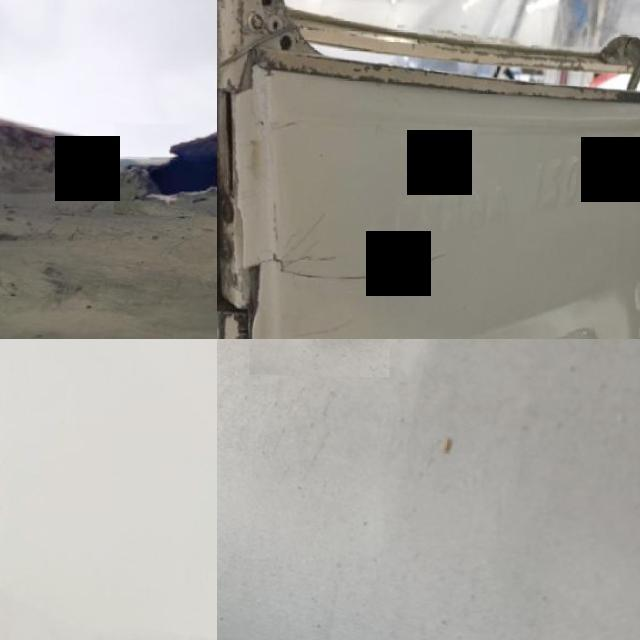Crack: (246, 193, 463, 339), (114, 121, 217, 216), (217, 76, 246, 197), (260, 81, 309, 142), (217, 208, 245, 304)
Dent: (250, 339, 391, 376)
